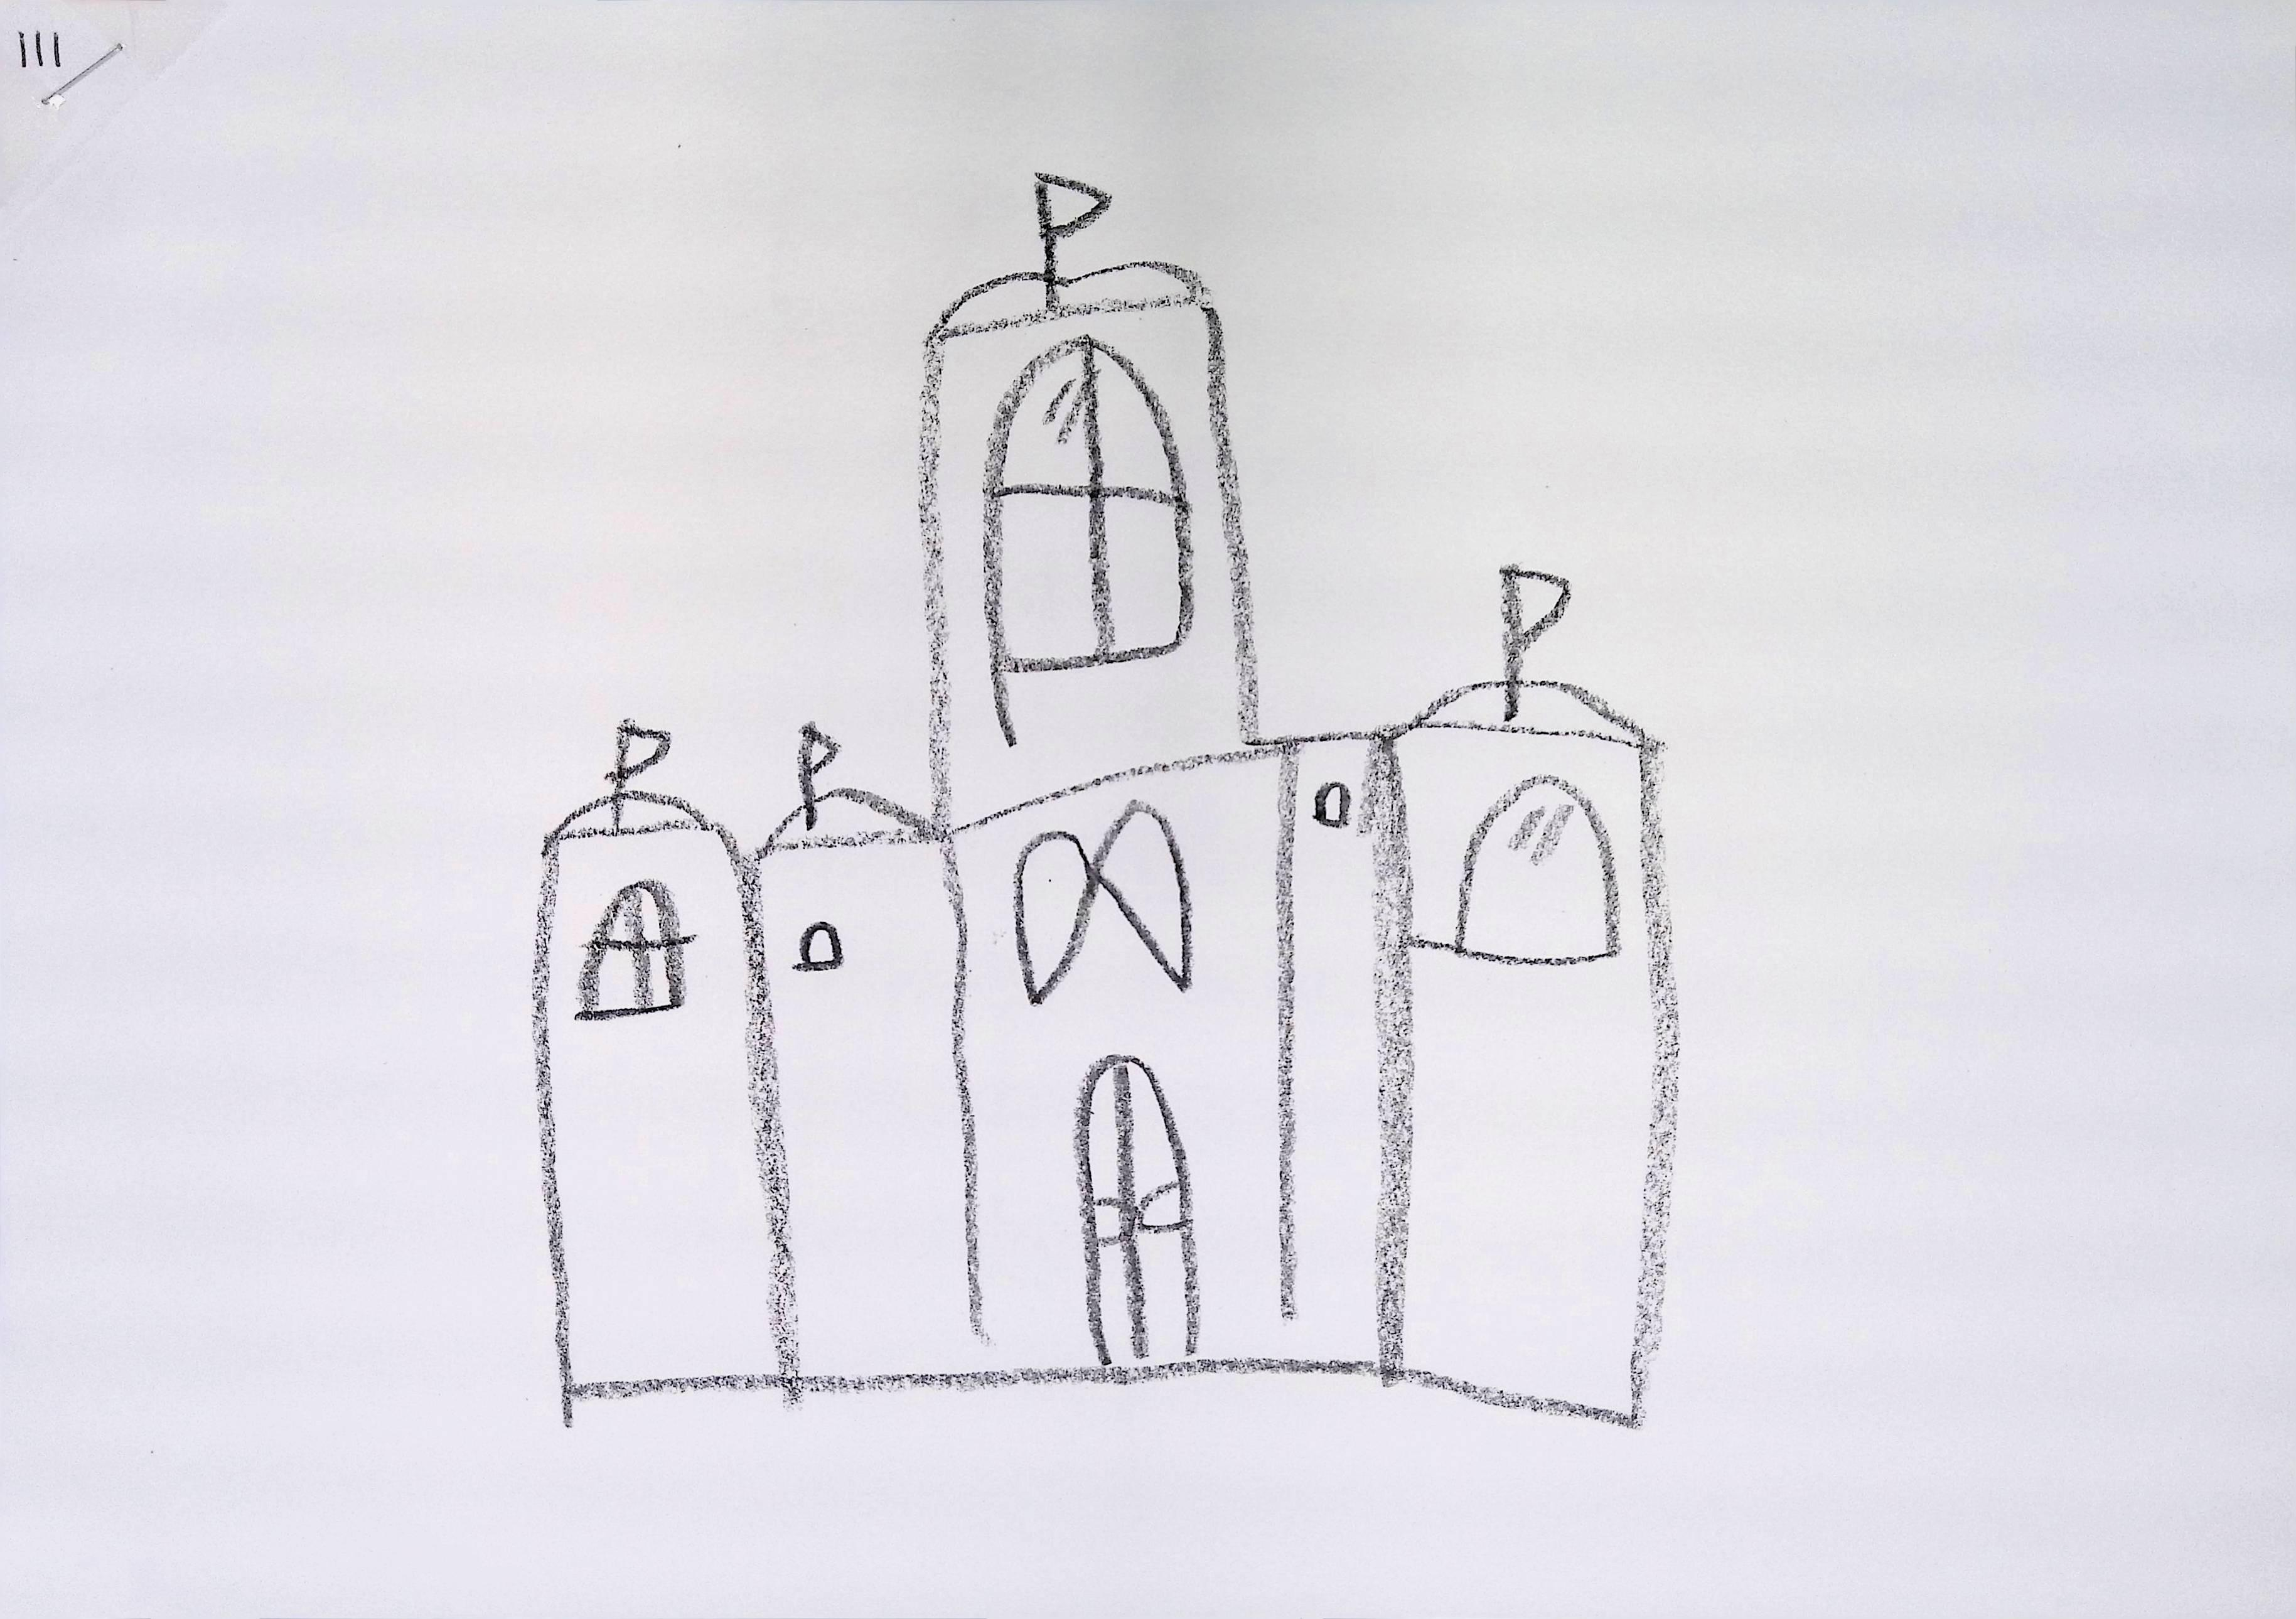door: (1075, 1055, 1200, 1365)
house: (532, 170, 1680, 1426)
roof: (921, 251, 1233, 347), (1399, 666, 1673, 753), (750, 773, 967, 867), (541, 794, 711, 843)
wall: (532, 296, 1681, 1426)
window: (984, 333, 1194, 680), (1436, 773, 1622, 965), (574, 880, 694, 1018), (792, 920, 842, 972), (1314, 780, 1354, 827)
